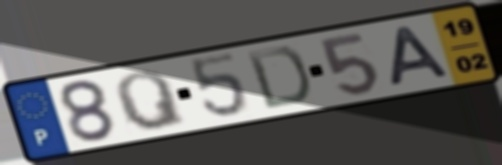5: (316, 29, 384, 98), (186, 50, 251, 121)
8: (55, 78, 119, 144)
A: (389, 23, 455, 90)
D: (243, 45, 313, 112)
Q: (113, 69, 191, 133)
